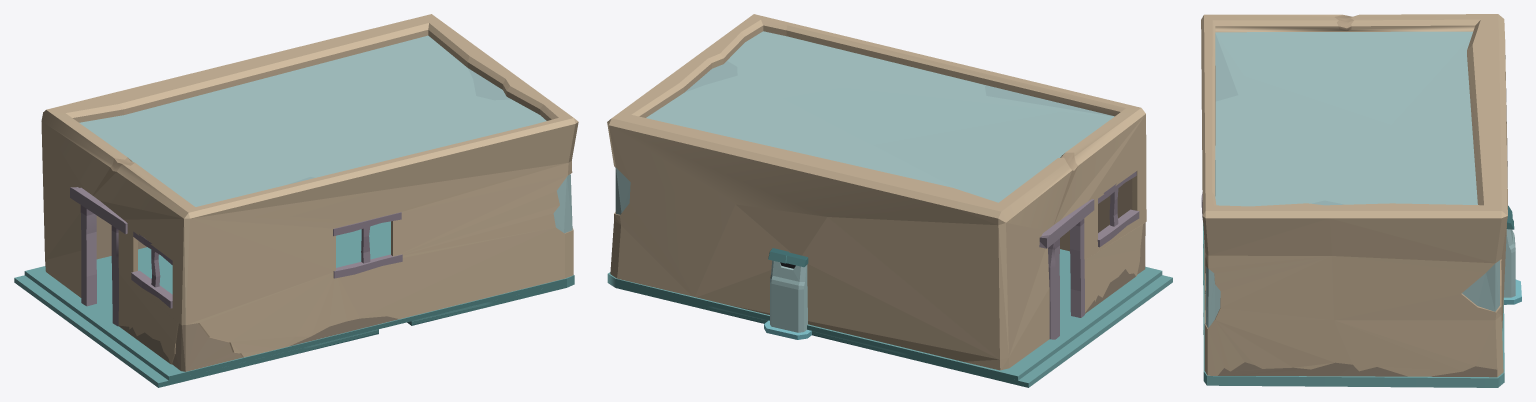
Rendered from House_Mid.fbx.
3 renders of one model, left to right at view 1: azimuth 30°, elevation 25°; view 2: azimuth 150°, elevation 25°; view 3: azimuth 270°, elevation 25°, orthographic. The views are drawn at different scales.
Visible parts, largest first — view 1: Hous_Mid; view 2: Hous_Mid; view 3: Hous_Mid.
Part boxes in pixels (<box>): Hous_Mid: <box>14,14,578,387</box>; Hous_Mid: <box>607,14,1172,387</box>; Hous_Mid: <box>1201,14,1521,387</box>.
Bounding box in the file's own units: 0.0911 × 0.0345 × 0.0575.
Materials: 1 (1 with a texture image).
